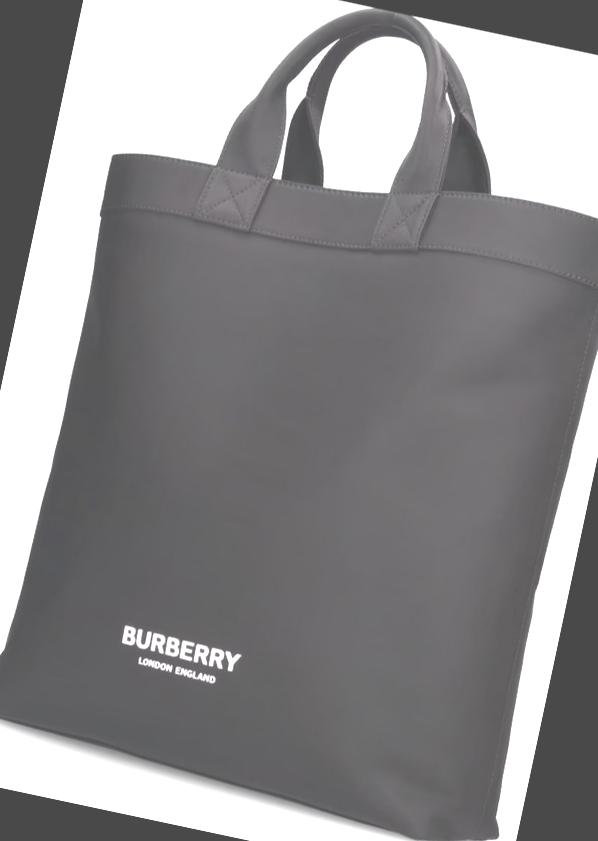BURBERRY: (120, 624, 242, 672)
